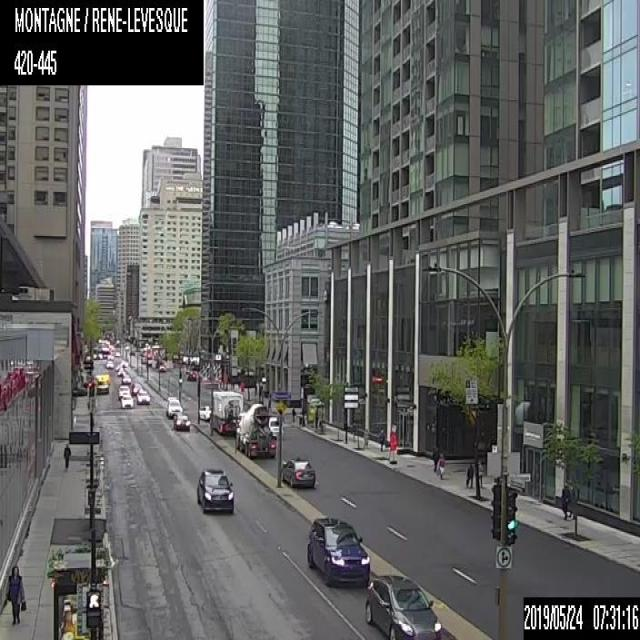construction: (389, 424, 397, 463)
pedestrian: (5, 563, 27, 624), (559, 477, 580, 519), (464, 457, 474, 488), (377, 424, 388, 451), (432, 447, 440, 472), (437, 454, 445, 478), (63, 441, 70, 468), (362, 427, 368, 447), (290, 407, 295, 422)
vehicle: (363, 571, 442, 639), (307, 514, 368, 588), (236, 403, 276, 458), (194, 467, 233, 512), (211, 390, 243, 436), (280, 456, 315, 487), (166, 395, 182, 418), (267, 415, 284, 436), (94, 372, 110, 393), (172, 414, 189, 430), (197, 404, 211, 420), (136, 389, 150, 404), (120, 392, 133, 407), (117, 384, 129, 397), (186, 368, 197, 381), (131, 382, 142, 394), (99, 347, 110, 358), (157, 360, 166, 371), (122, 374, 131, 384), (105, 359, 113, 368), (146, 354, 153, 364), (117, 367, 125, 375), (140, 353, 146, 363), (114, 350, 120, 356)
